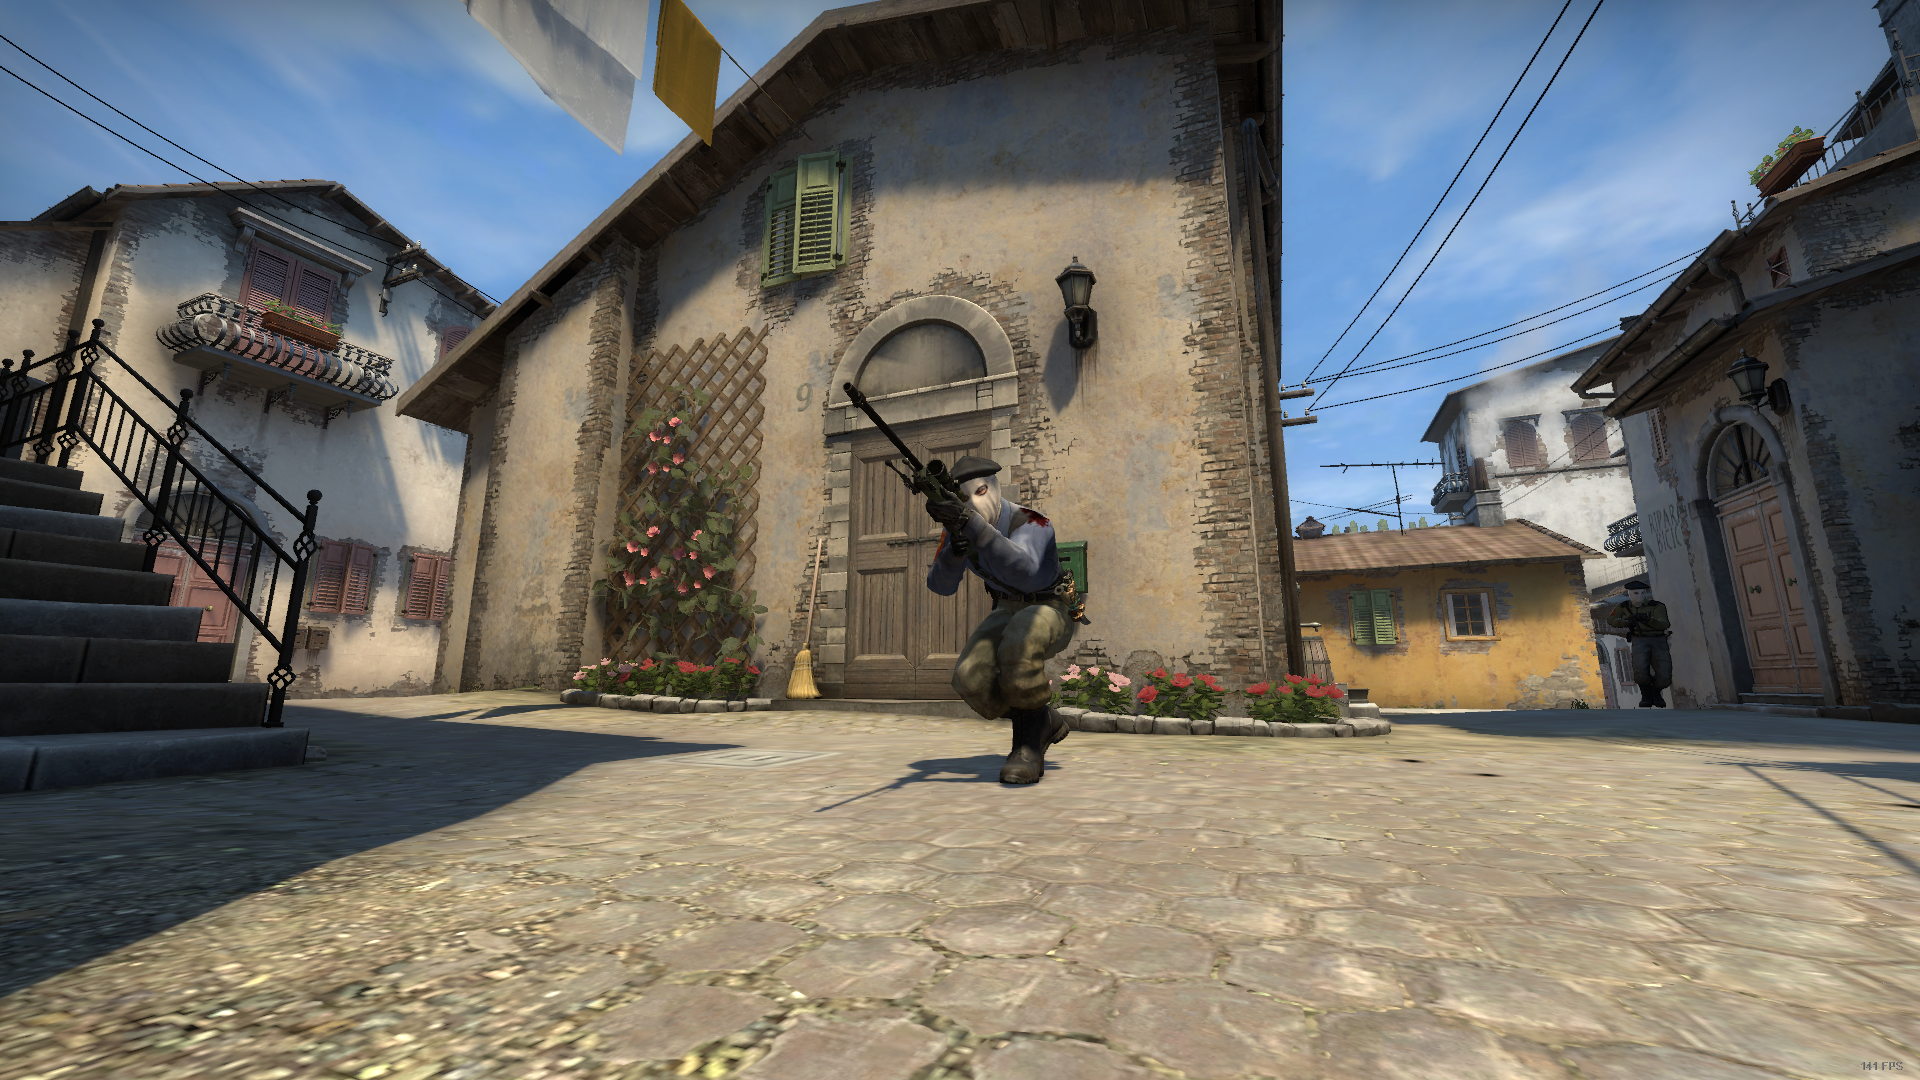t: (919, 454, 1093, 806)
